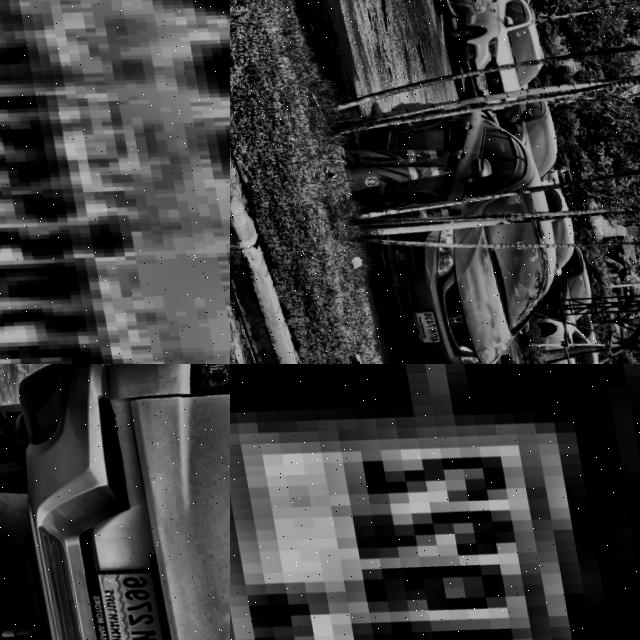license-plate: (230, 364, 640, 640), (0, 0, 230, 364), (80, 556, 173, 640), (407, 300, 442, 341), (471, 66, 486, 83)
